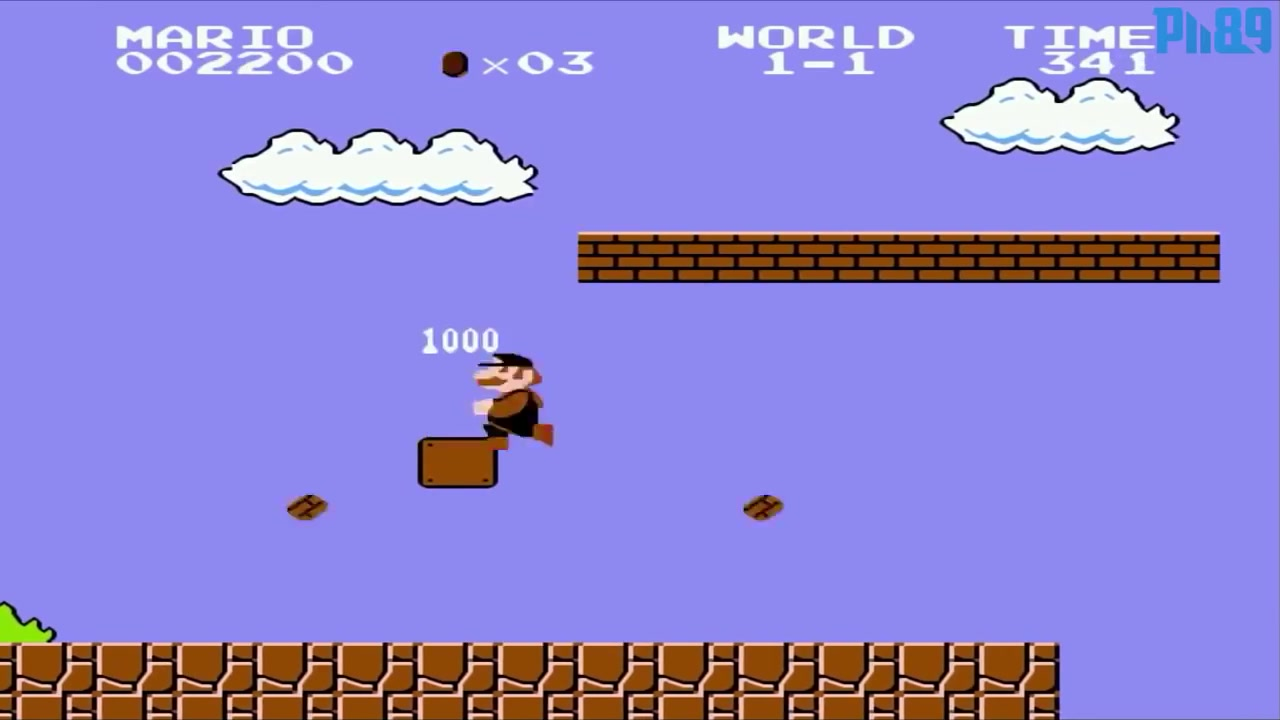mario: (465, 346, 560, 458)
